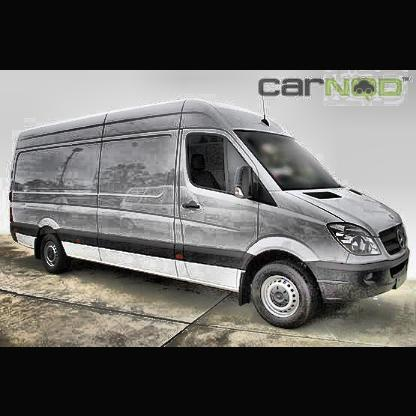Mercedes-Benz Sprinter Van 2012: (12, 100, 411, 326)
